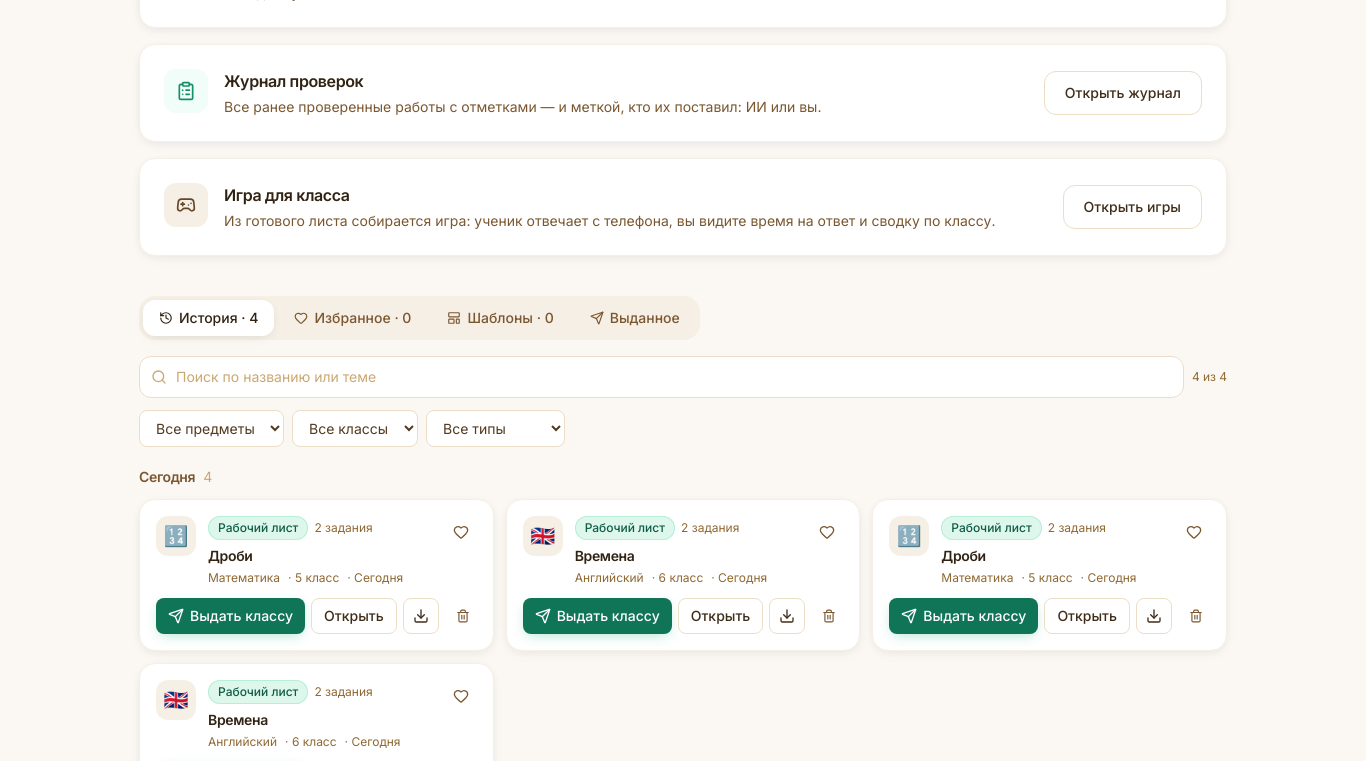
Test case: Поиск и фильтры в кабинете › пустой результат поиска предлагает сбросить фильтры
(page scrolled)
Type "щщщ" into the search field with test id "history-search" at {"x": 662, "y": 377}, box [139,356,1184,398]
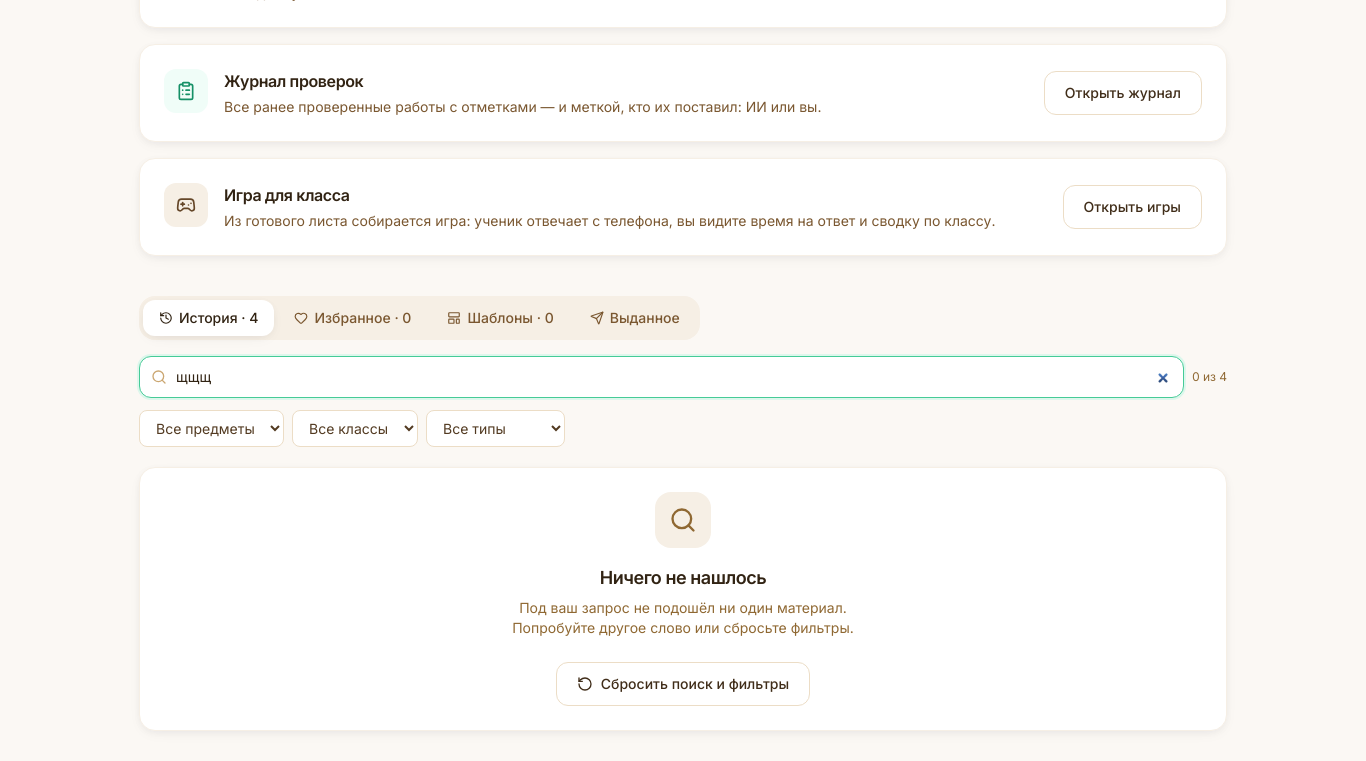
Now the heading "Ничего не нашлось" is shown, box [600,567,766,588]
Now the button "Сбросить поиск и фильтры" is shown, box [556,662,810,706]
